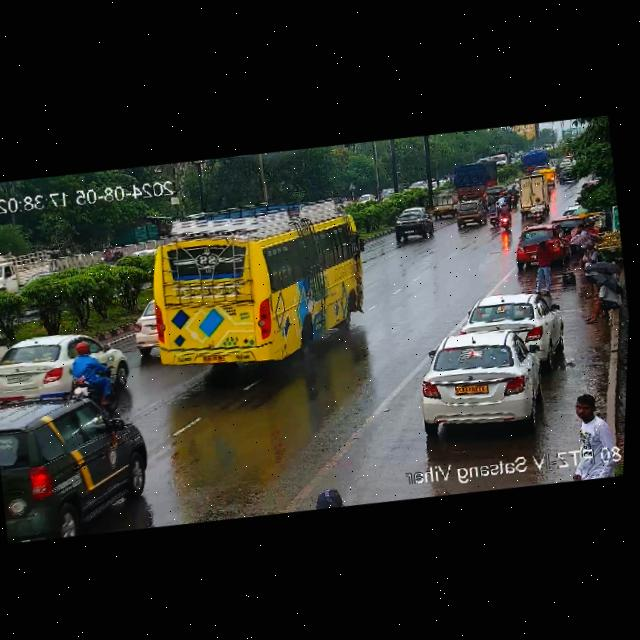bus: (127, 190, 386, 388)
car: (0, 382, 167, 548), (406, 324, 550, 439), (0, 326, 131, 413), (462, 286, 562, 364), (512, 222, 566, 265), (393, 206, 435, 241), (454, 198, 487, 229), (483, 185, 506, 200), (543, 167, 558, 189), (557, 167, 577, 183)
motorcycle: (60, 341, 122, 410), (492, 198, 517, 233), (484, 200, 505, 229), (529, 196, 547, 225)
person: (578, 276, 629, 328), (566, 391, 612, 448), (579, 239, 605, 300), (566, 221, 602, 263), (530, 237, 556, 294)
truck: (0, 249, 55, 303), (450, 155, 500, 202), (513, 172, 555, 218), (429, 187, 460, 220), (523, 145, 552, 172)
